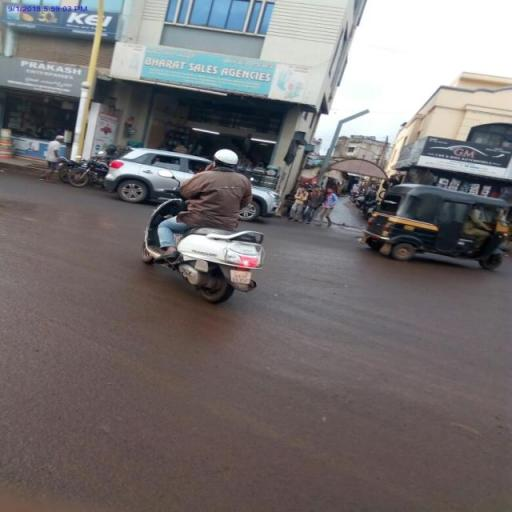using mobile: (206, 157, 222, 171)
